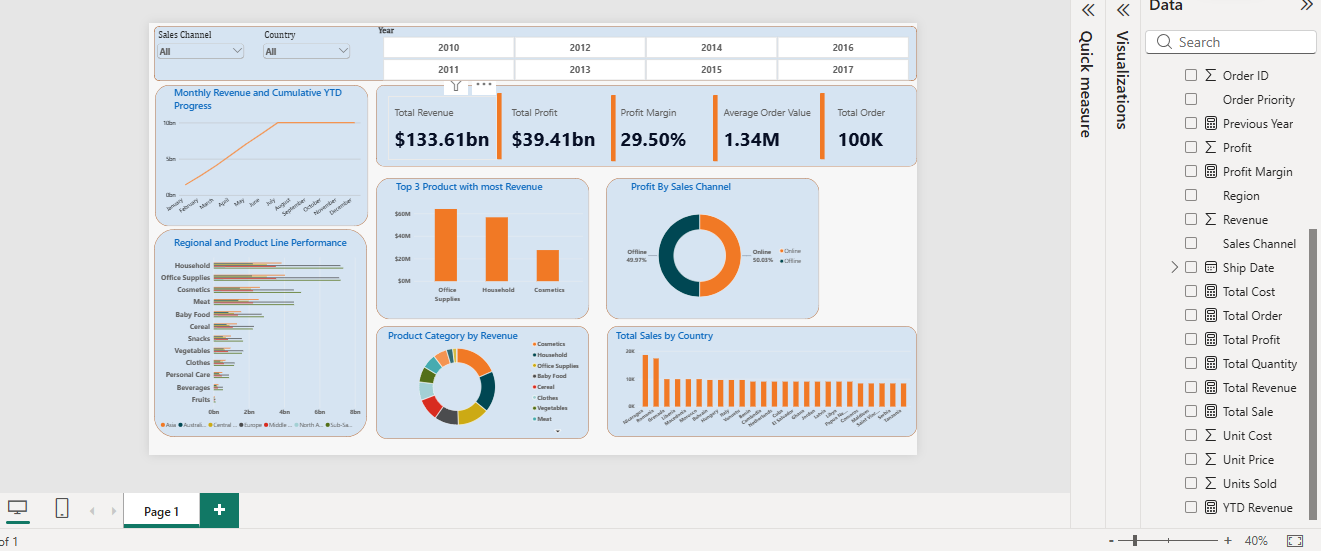

The page's visual inventory and layout, read from the dashboard file:
{"tool":"powerbi","page":{"name":"Page 1","canvas":[1920,1080],"ordinal":0},"visuals":[{"type":"shape","box":[566.9,156.2,1353.1,204.1],"z":0},{"type":"cardVisual","fields":{"Data":["100000 Sales Records.Total Revenue"]},"box":[597.2,181.4,272.1,161.3],"z":1000},{"type":"cardVisual","fields":{"Data":["100000 Sales Records.Total Profit"]},"box":[889.4,181.4,272.1,161.3],"z":2000},{"type":"cardVisual","fields":{"Data":["100000 Sales Records.Profit Margin"]},"box":[1161.6,181.4,204.1,161.3],"z":3000},{"type":"cardVisual","fields":{"Data":["100000 Sales Records.Average Order Value"]},"box":[1421.1,181.4,257,161.3],"z":4000},{"type":"cardVisual","fields":{"Data":["100000 Sales Records.Total Order"]},"box":[1705.8,181.4,181.4,161.3],"z":5000},{"type":"shape","box":[869,175,12,166],"z":6000},{"type":"shape","box":[1155,179,12,166],"z":7000},{"type":"shape","box":[1409,179,12,166],"z":8000},{"type":"shape","box":[1678,175,12,166],"z":9000},{"type":"shape","box":[14.3,155.7,533.3,353.3],"z":10000},{"type":"lineChart","fields":{"Category":["100000 Sales Records.Order Date.Variation.Date Hierarchy.Month"],"Y":["100000 Sales Records.YTD Revenue"]},"box":[15,190,530,327.5],"z":11000},{"type":"shape","box":[12.5,515,532.5,520],"z":12000},{"type":"clusteredBarChart","fields":{"Category":["100000 Sales Records.Item Type"],"Series":["100000 Sales Records.Region"],"Y":["100000 Sales Records.Total Revenue"]},"box":[12.5,565,532.5,470],"z":13000},{"type":"textbox","box":[62.5,157.5,432.5,65],"z":14000},{"type":"textbox","box":[62.5,532.5,432.5,65],"z":15000},{"type":"shape","box":[567.5,387.5,533.3,353.3],"z":16000},{"type":"clusteredColumnChart","fields":{"Category":["100000 Sales Records.Item Type"],"Y":["100000 Sales Records.Total Revenue"]},"box":[597.5,425,502.5,292.5],"z":17000},{"type":"textbox","box":[617.5,392.5,432.5,65],"z":18000},{"type":"shape","box":[1142.5,387.5,533.3,353.3],"z":19000},{"type":"donutChart","fields":{"Category":["100000 Sales Records.Sales Channel"],"Y":["100000 Sales Records.Total Profit"]},"box":[1162.5,425,492.5,315],"z":20000},{"type":"textbox","box":[1205,392.5,432.5,65],"z":21000},{"type":"shape","box":[567.5,757.5,532.5,282.5],"z":22000},{"type":"donutChart","fields":{"Category":["100000 Sales Records.Item Type"],"Y":["100000 Sales Records.Total Profit"]},"box":[567.5,775,532.5,270],"z":23000},{"type":"textbox","box":[597.5,765,432.5,65],"z":24000},{"type":"shape","box":[1145,757.5,775,277.5],"z":25000},{"type":"clusteredColumnChart","fields":{"Category":["100000 Sales Records.Country"],"Y":["100000 Sales Records.Total Sale"]},"box":[1162.5,797.5,757.5,237.5],"z":26000},{"type":"textbox","box":[1167.5,765,432.5,65],"z":27000},{"type":"shape","box":[12.5,7.5,1907.5,137.5],"z":28000},{"type":"slicer","fields":{"Values":["100000 Sales Records.Sales Channel"]},"box":[15,17.5,227.5,115],"z":29000},{"type":"slicer","fields":{"Values":["100000 Sales Records.Country"]},"box":[280,17.5,227.5,115],"z":30000},{"type":"slicer","fields":{"Values":["100000 Sales Records.Order Date.Variation.Date Hierarchy.Year"]},"box":[565,5,1352.5,140],"z":31000}]}

Visuals, with their boxes on the page's 1920x1080 design canvas (x1, y1, x2, y2). These are canvas units, not pixel positions in the 1321x551 screenshot, which may show the page scaled, cropped or inside an application window:
shape: 567:156:1920:360
cardVisual - 100000 Sales Records.Total Revenue: 597:181:869:343
cardVisual - 100000 Sales Records.Total Profit: 889:181:1162:343
cardVisual - 100000 Sales Records.Profit Margin: 1162:181:1366:343
cardVisual - 100000 Sales Records.Average Order Value: 1421:181:1678:343
cardVisual - 100000 Sales Records.Total Order: 1706:181:1887:343
shape: 869:175:881:341
shape: 1155:179:1167:345
shape: 1409:179:1421:345
shape: 1678:175:1690:341
shape: 14:156:548:509
lineChart - 100000 Sales Records.Order Date.Variation.Date Hierarchy.Month x 100000 Sales Records.YTD Revenue: 15:190:545:518
shape: 12:515:545:1035
clusteredBarChart - 100000 Sales Records.Item Type x 100000 Sales Records.Region: 12:565:545:1035
textbox: 62:158:495:222
textbox: 62:532:495:598
shape: 568:388:1101:741
clusteredColumnChart - 100000 Sales Records.Item Type x 100000 Sales Records.Total Revenue: 598:425:1100:718
textbox: 618:392:1050:458
shape: 1142:388:1676:741
donutChart - 100000 Sales Records.Sales Channel x 100000 Sales Records.Total Profit: 1162:425:1655:740
textbox: 1205:392:1638:458
shape: 568:758:1100:1040
donutChart - 100000 Sales Records.Item Type x 100000 Sales Records.Total Profit: 568:775:1100:1045
textbox: 598:765:1030:830
shape: 1145:758:1920:1035
clusteredColumnChart - 100000 Sales Records.Country x 100000 Sales Records.Total Sale: 1162:798:1920:1035
textbox: 1168:765:1600:830
shape: 12:8:1920:145
slicer - 100000 Sales Records.Sales Channel: 15:18:242:132
slicer - 100000 Sales Records.Country: 280:18:508:132
slicer - 100000 Sales Records.Order Date.Variation.Date Hierarchy.Year: 565:5:1918:145
